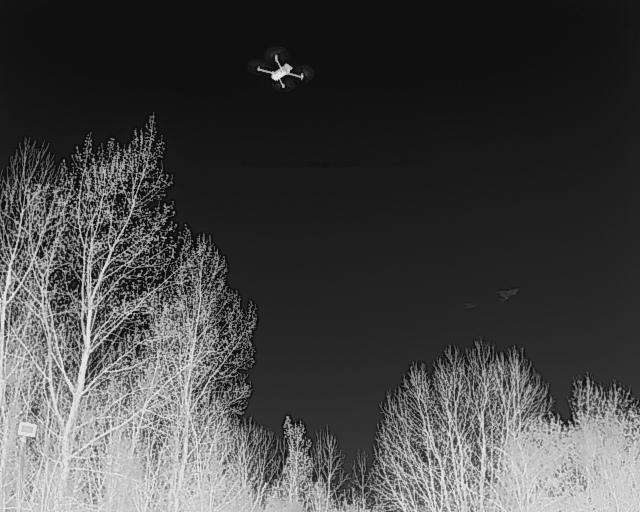drone: (253, 50, 309, 102)
